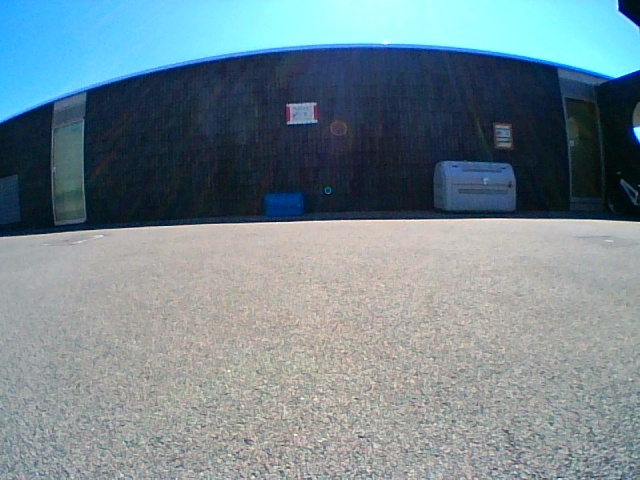blue_box: (266, 193, 303, 215)
